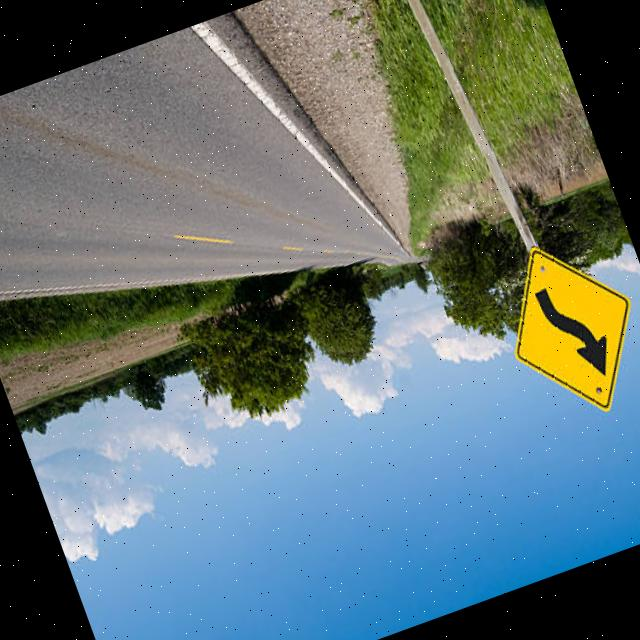left_sharp_curve: (477, 221, 640, 444)
